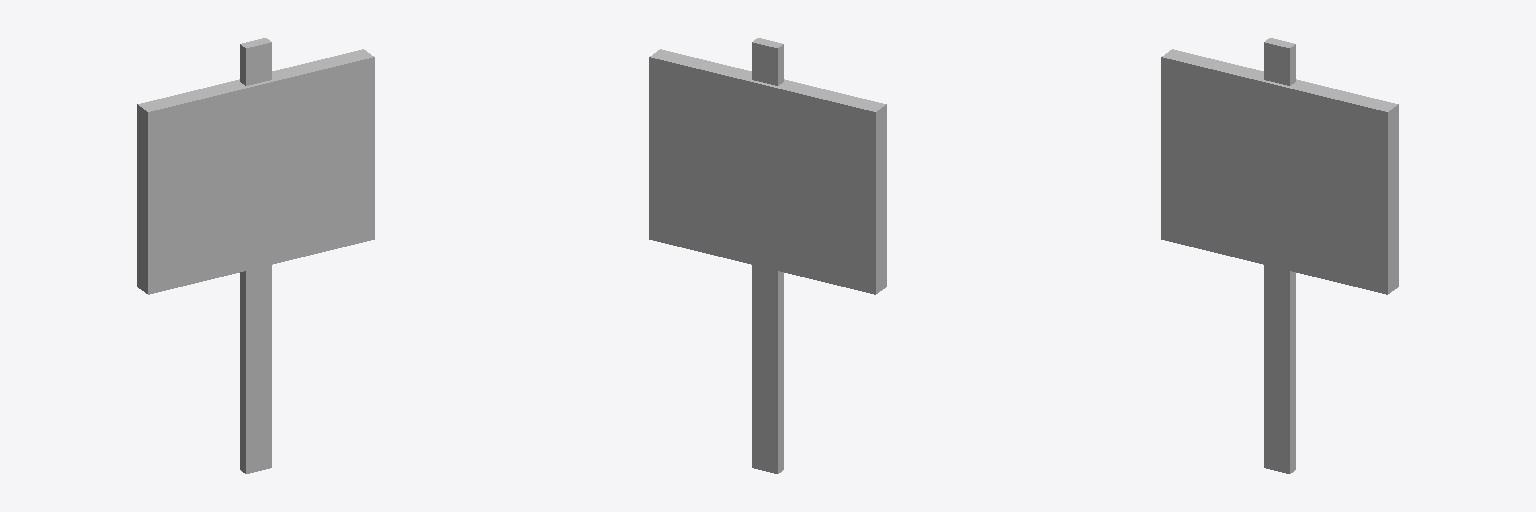
Rendered from HelipadSignBoard.obj.
3 views of the same model, side by side, from view 1: azimuth 30°, elevation 25°; view 2: azimuth 150°, elevation 25°; view 3: azimuth 330°, elevation 25° (orthographic).
Parts seen in each view (by area): view 1: polySurface1; view 2: polySurface1; view 3: polySurface1.
Part boxes in pixels (x1,y1,x2,y2): polySurface1: (137,38,374,473); polySurface1: (649,38,886,473); polySurface1: (1161,38,1398,473).
Size of the model in its own units: 4.76 by 8.56 by 0.3922.